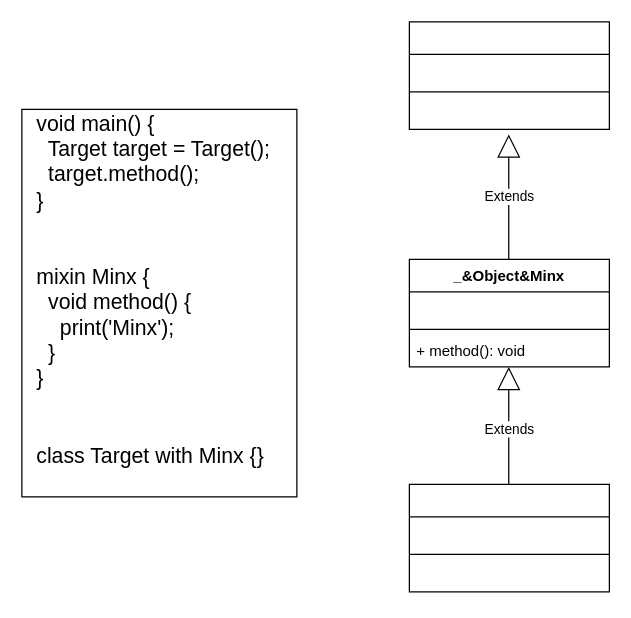
The diagram is 631 pixels wide and 618 high, and some of its shapes have lost their labels. Here are the shapes that lost their labels. From the top down, the box of each, then its label:
(408, 21, 609, 129): Object
(408, 483, 609, 592): Target
